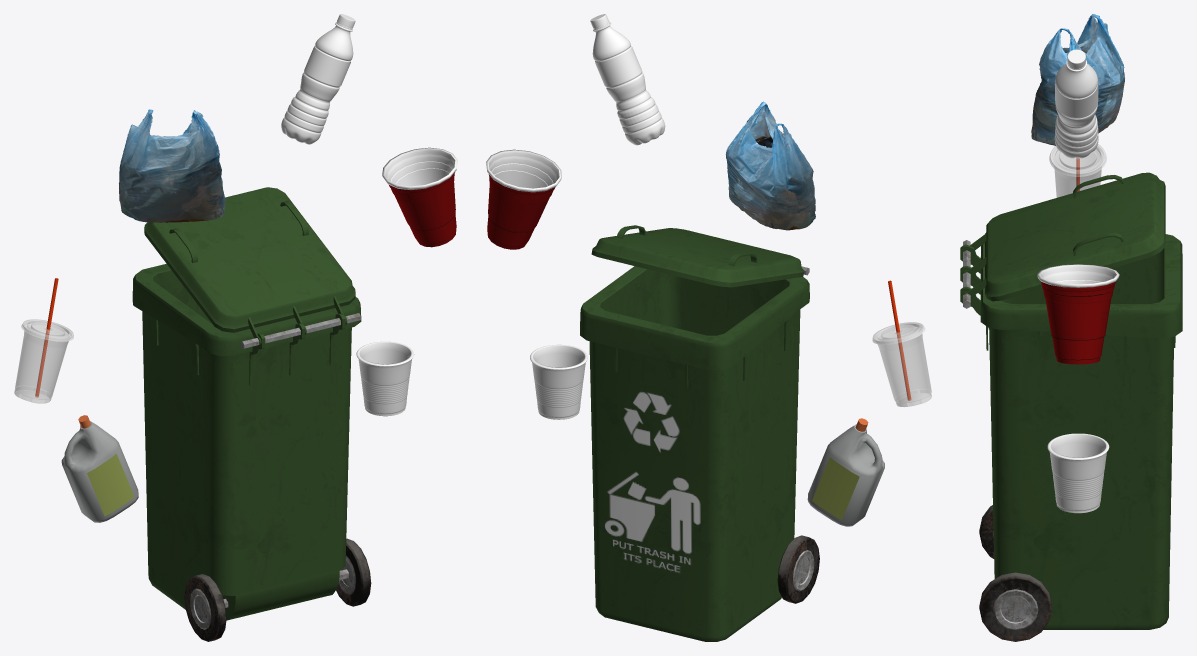
Rendered from trash.glb.
3 views of the same model, side by side, from view 1: azimuth 30°, elevation 25°; view 2: azimuth 150°, elevation 25°; view 3: azimuth 270°, elevation 25° (orthographic). The views are drawn at different scales.
Parts seen in each view (by area): view 1: Wheels, Object_4; view 2: Wheels, Object_4; view 3: Wheels, Object_4.
Part boxes in pixels (x1,y1,x2,y2): Wheels: (132,187,371,641); Object_4: (14,14,457,522); Wheels: (580,225,819,641); Object_4: (486,14,931,526); Wheels: (960,172,1182,641); Object_4: (1031,14,1124,513).
Bounding box in the file's own units: 4.44 × 5.45 × 1.83.
17 materials, 4 textured.
